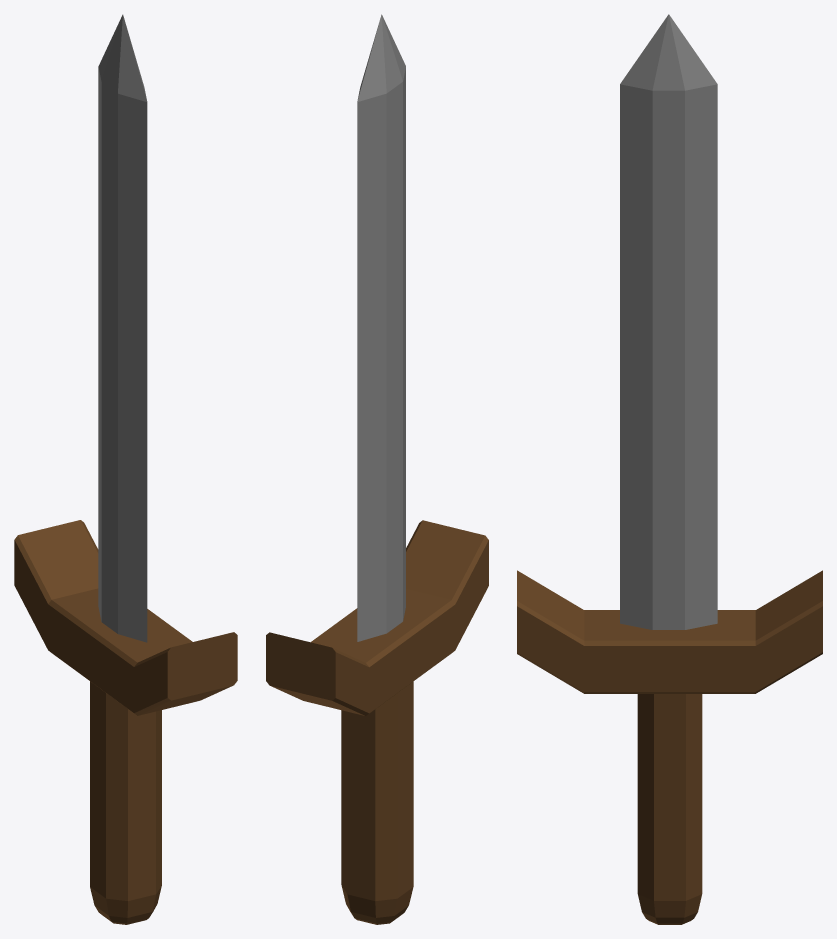
File: sword.fbx
3 views of the same model, side by side, from view 1: azimuth 30°, elevation 25°; view 2: azimuth 150°, elevation 25°; view 3: azimuth 270°, elevation 25° (orthographic).
Parts seen in each view (by area): view 1: Cube.002, Cube, Cube.001; view 2: Cube.002, Cube, Cube.001; view 3: Cube.002, Cube, Cube.001.
Part boxes in pixels (left/top/right/bottom): Cube.002: left=98, top=14, right=147, bottom=642; Cube: left=14, top=520, right=237, bottom=715; Cube.001: left=90, top=681, right=161, bottom=924; Cube.002: left=357, top=14, right=405, bottom=641; Cube: left=266, top=520, right=488, bottom=715; Cube.001: left=341, top=681, right=413, bottom=924; Cube.002: left=620, top=14, right=717, bottom=629; Cube: left=517, top=570, right=822, bottom=693; Cube.001: left=637, top=694, right=702, bottom=924.
Bounding box in the file's own units: 164 × 2033 × 626.
